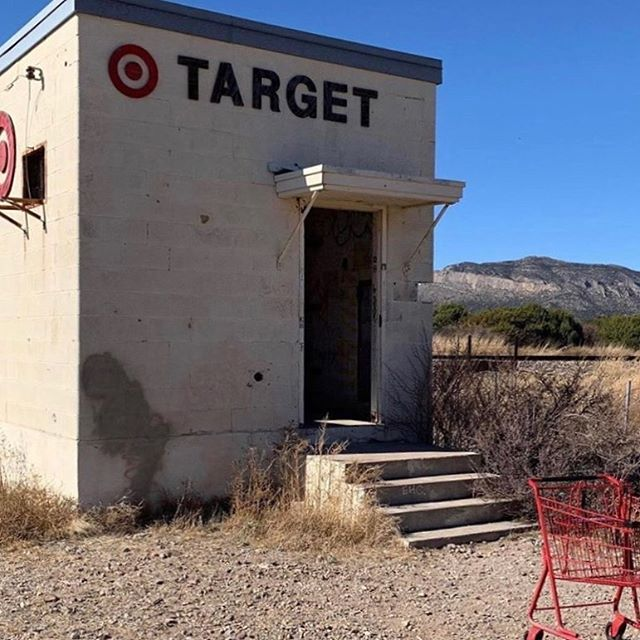building: (1, 29, 453, 545)
door: (299, 211, 380, 431)
mountain: (449, 236, 640, 316)
shopping cart: (513, 463, 640, 640)
sky: (434, 1, 633, 255)
